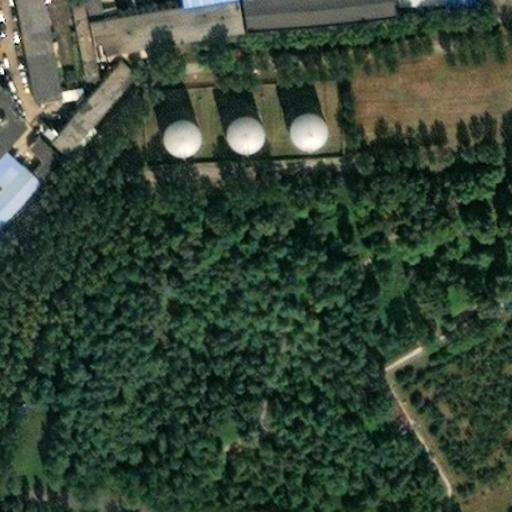building: (35, 47, 124, 147), (5, 0, 41, 80), (16, 125, 52, 169), (164, 120, 200, 156), (289, 111, 325, 146), (230, 116, 265, 151)
